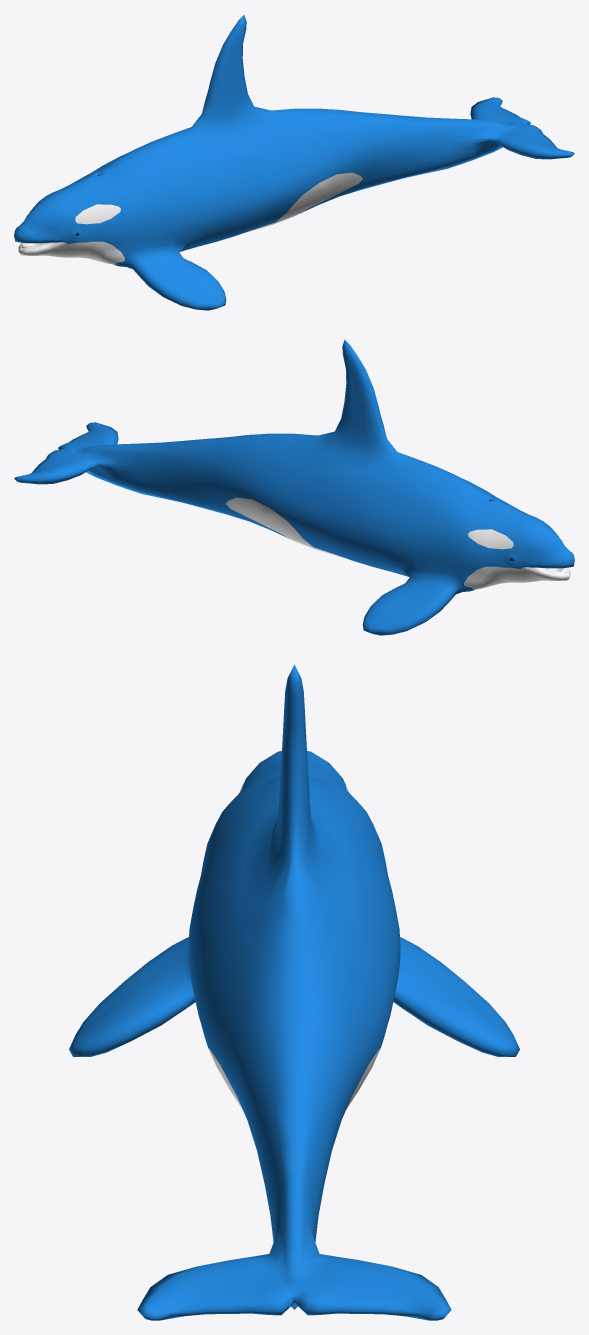
The model's file is Orcas_002.glb.
3 renders of one model, top to bottom at view 1: azimuth 30°, elevation 25°; view 2: azimuth 150°, elevation 25°; view 3: azimuth 270°, elevation 25°, orthographic. The views are drawn at different scales.
Visible parts, largest first — view 1: Orcas_002; view 2: Orcas_002; view 3: Orcas_002.
Part boxes in pixels (<box>): Orcas_002: <box>14,14,574,310</box>; Orcas_002: <box>14,339,574,635</box>; Orcas_002: <box>69,664,519,1320</box>.
Bounding box in the file's own units: 10.46 × 4.48 × 3.9.
Materials: 1 (1 with a texture image).
